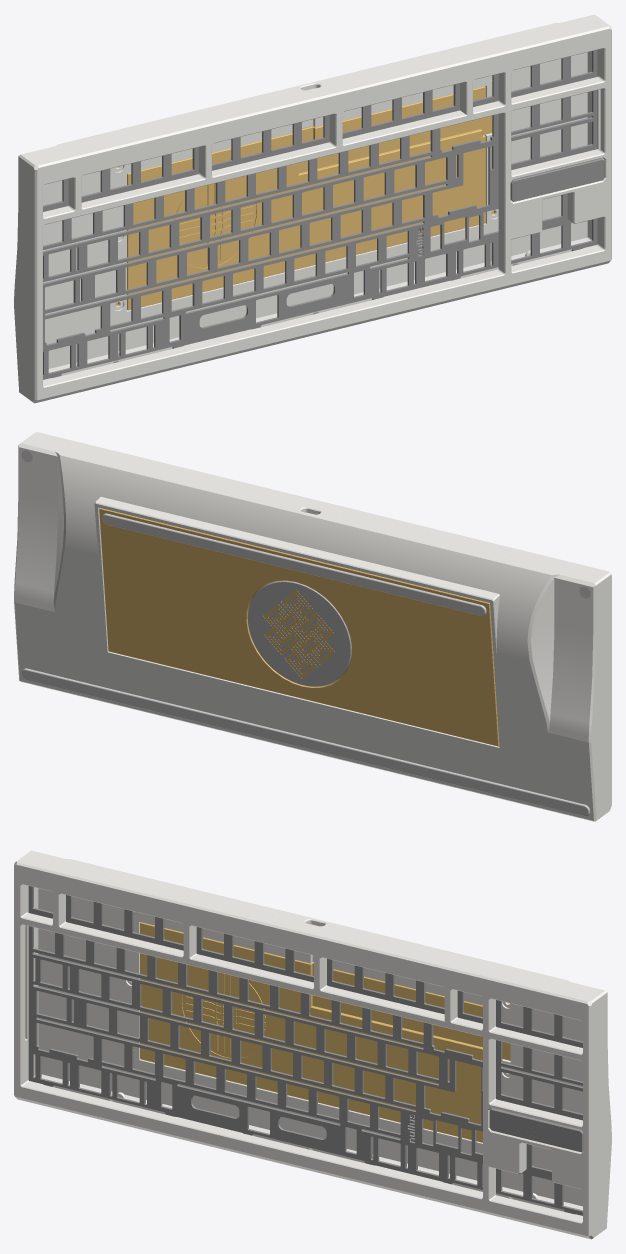
File: Case v107.fbx
The picture shows the model from 3 angles, top to bottom: view 1: azimuth 30°, elevation 25°; view 2: azimuth 150°, elevation 25°; view 3: azimuth 330°, elevation 25°; orthographic projection.
Parts seen in each view (by area): view 1: Body1 (×4), Body4; view 2: Body4, Body1 (×6); view 3: Body1 (×4), Body4.
Boxes of the visible parts, x1,y1,x2,y2 form: Body1 (×4): [26, 20, 611, 403]; Body4: [14, 14, 601, 397]; Body4: [14, 437, 603, 821]; Body1 (×6): [22, 432, 611, 816]; Body1 (×4): [14, 856, 599, 1239]; Body4: [24, 850, 611, 1233].
Bounding box in the file's own units: 358 × 142 × 33.29.
